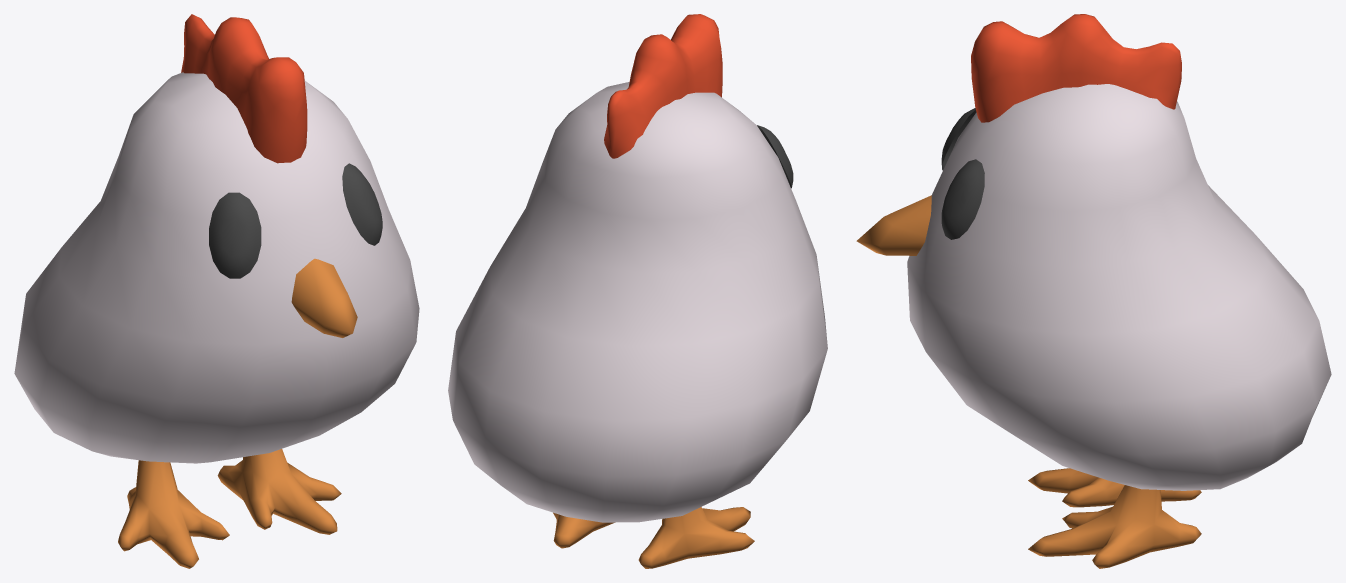
The model's file is Chicken.fbx.
3 renders of one model, left to right at view 1: azimuth 30°, elevation 25°; view 2: azimuth 150°, elevation 25°; view 3: azimuth 270°, elevation 25°, orthographic. The views are drawn at different scales.
Parts seen in each view (by area): view 1: Chicken; view 2: Chicken; view 3: Chicken.
Part boxes in pixels (x1,y1,x2,y2): Chicken: [14, 14, 419, 568]; Chicken: [448, 14, 827, 568]; Chicken: [856, 14, 1331, 568].
Size of the model in its own units: 8.02 by 11.57 by 9.8.
